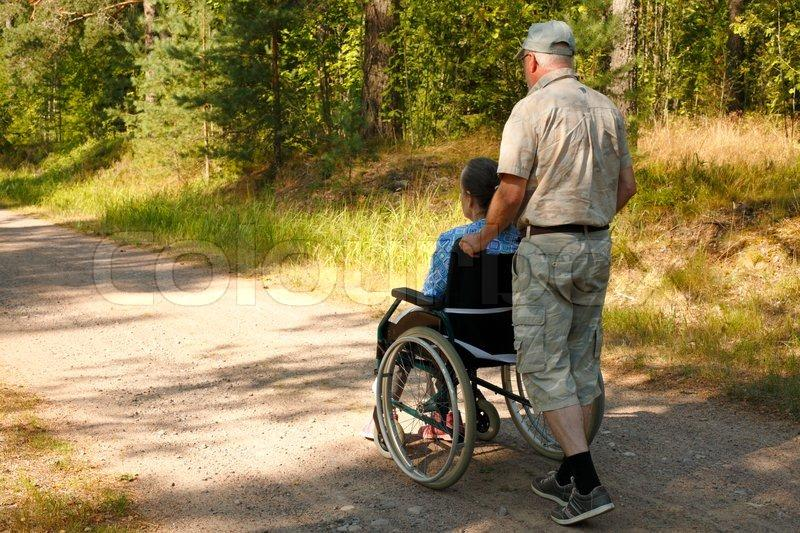push_wheelchair: (460, 21, 636, 524)
wheelchair: (374, 158, 605, 490)
